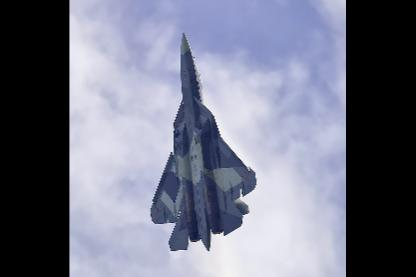SR71: (150, 29, 256, 250)
